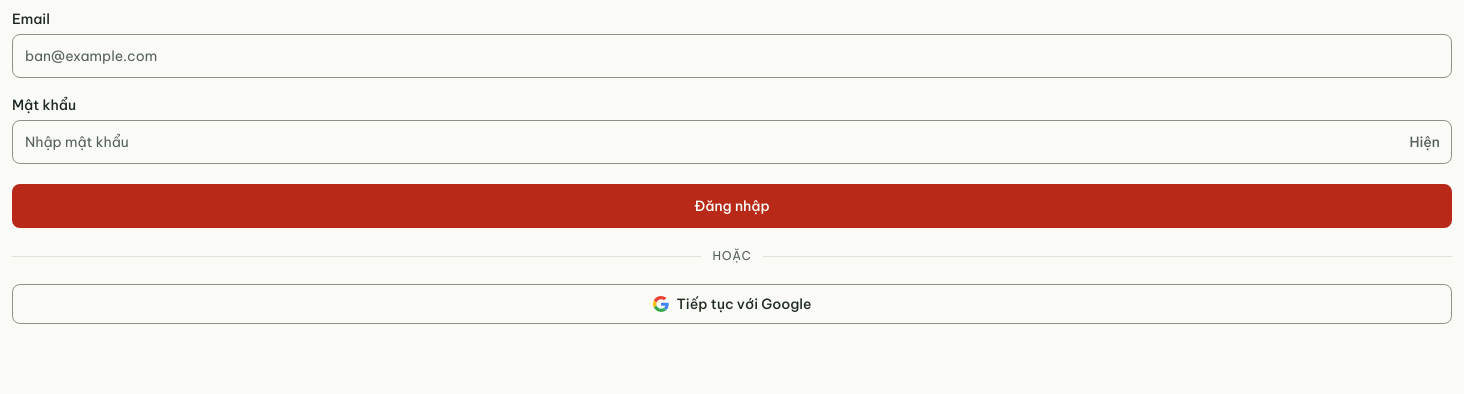
it: LoginForm › shows validation errors and does not submit
The width and height of the screenshot is (1464, 394).
Click the button "Đăng nhập" at (732, 206), box [12,184,1452,228]
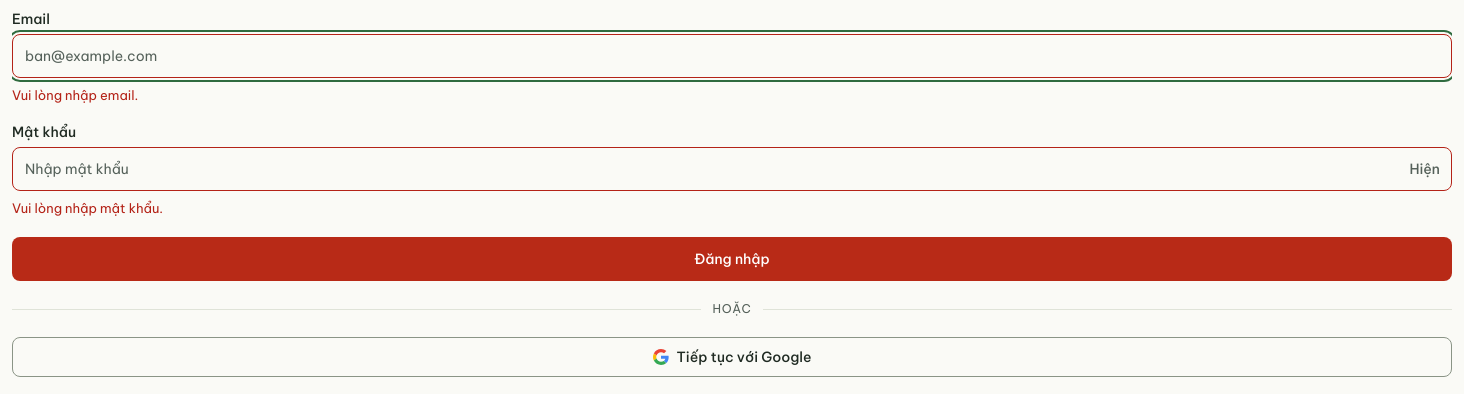
Expected: the text "Vui lòng nhập email." is shown, [12,87,138,103]
